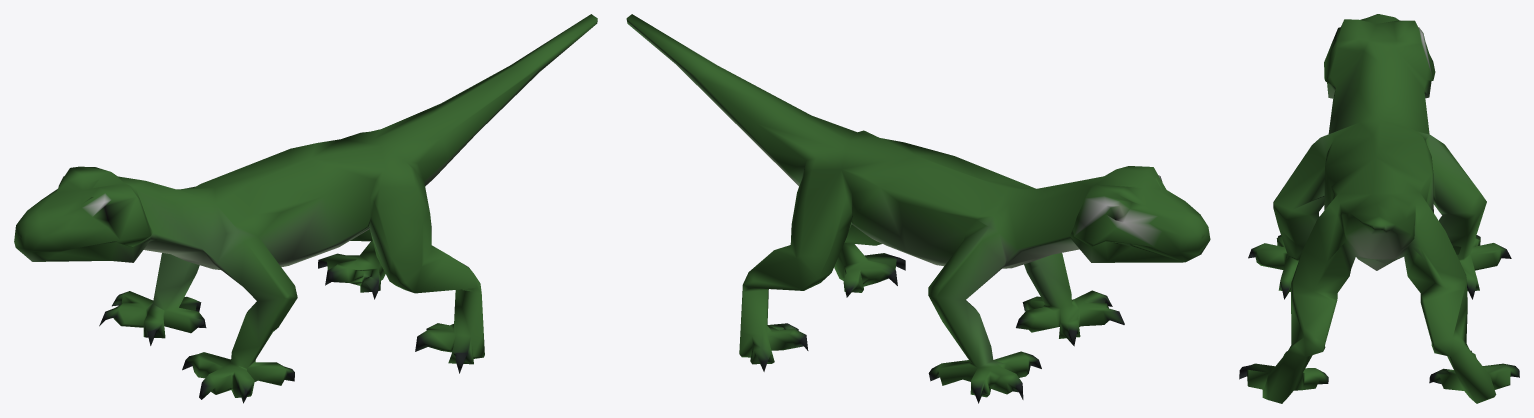
Rendered from gen3d-lizard-lod1.glb.
3 views of the same model, side by side, from view 1: azimuth 30°, elevation 25°; view 2: azimuth 150°, elevation 25°; view 3: azimuth 270°, elevation 25° (orthographic).
Parts seen in each view (by area): view 1: part_0; view 2: part_0; view 3: part_0.
Part boxes in pixels (<box>): part_0: <box>14,14,597,403</box>; part_0: <box>626,14,1210,403</box>; part_0: <box>1239,14,1519,403</box>.
Bounding box in the file's own units: 2.31 × 0.9965 × 0.9826.
